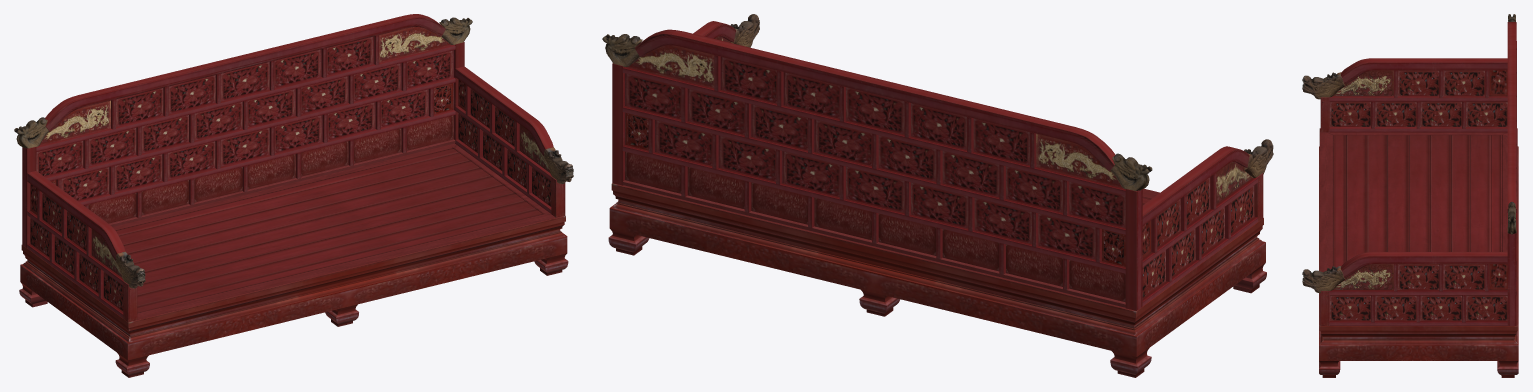
File: SM_Throne01B.fbx
3 views of the same model, side by side, from view 1: azimuth 30°, elevation 25°; view 2: azimuth 150°, elevation 25°; view 3: azimuth 270°, elevation 25° (orthographic). The views are drawn at different scales.
Visible parts, largest first — view 1: SM_Throne01B; view 2: SM_Throne01B; view 3: SM_Throne01B.
Boxes of the visible parts, x1,y1,x2,y2 form: SM_Throne01B: (14,14,573,377); SM_Throne01B: (602,14,1273,377); SM_Throne01B: (1302,14,1518,377).
Bounding box in the file's own units: 234 × 104 × 94.73.
